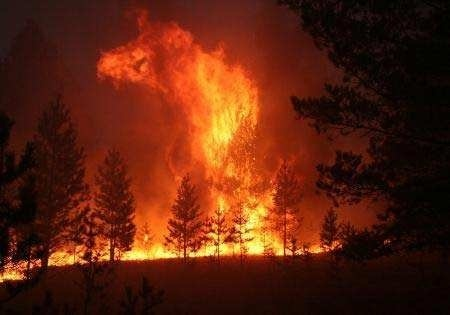fire: (91, 3, 324, 264)
